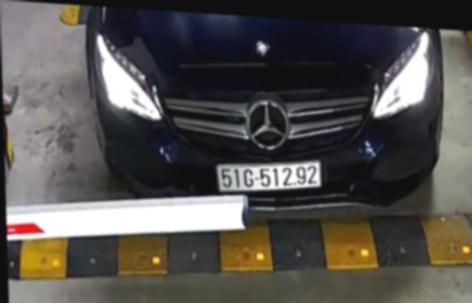License_Plate: (215, 152, 327, 197)
